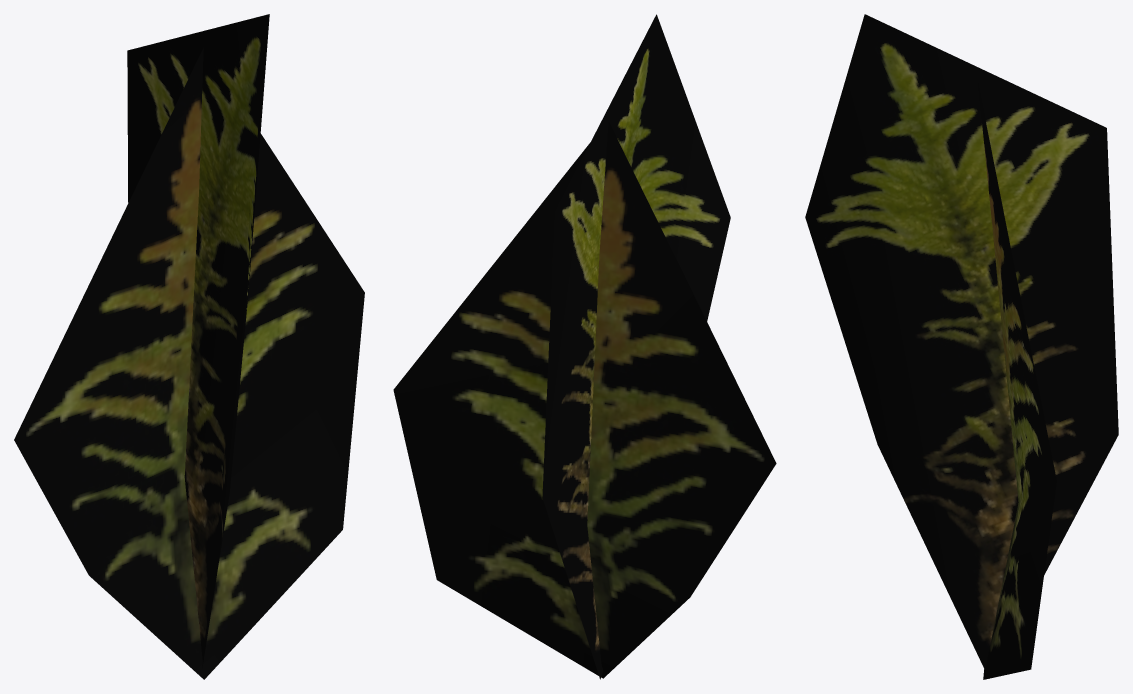
Rendered from moss_01_f.glb.
The picture shows the model from 3 angles, left to right: view 1: azimuth 30°, elevation 25°; view 2: azimuth 150°, elevation 25°; view 3: azimuth 270°, elevation 25°; orthographic projection. The views are drawn at different scales.
Parts seen in each view (by area): view 1: moss_01_g_LOD0; view 2: moss_01_g_LOD0; view 3: moss_01_g_LOD0.
Part boxes in pixels (x1,y1,x2,y2): moss_01_g_LOD0: (14,14,364,679); moss_01_g_LOD0: (393,14,776,679); moss_01_g_LOD0: (805,14,1118,679).
Size of the model in its own units: 0.0129 by 0.0222 by 0.00948.
Materials: 1 (1 with a texture image).
